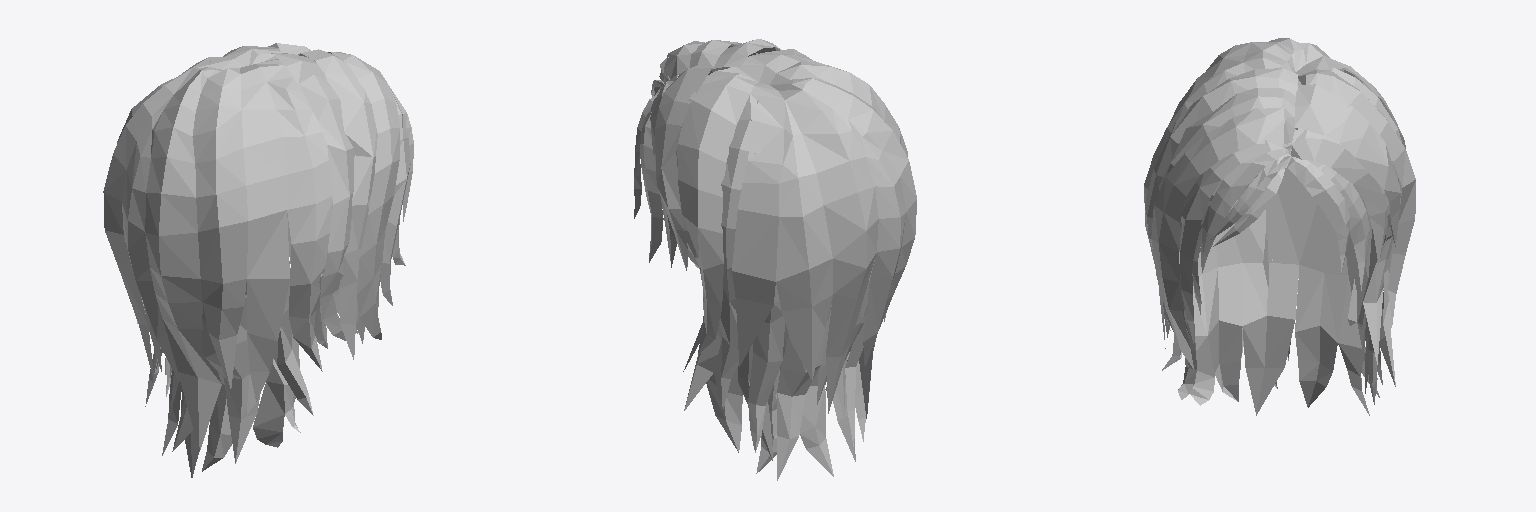
File: housesp_031.obj
3 views of the same model, side by side, from view 1: azimuth 30°, elevation 25°; view 2: azimuth 150°, elevation 25°; view 3: azimuth 270°, elevation 25° (orthographic).
Size of the model in its own units: 19.21 by 27.71 by 17.35.